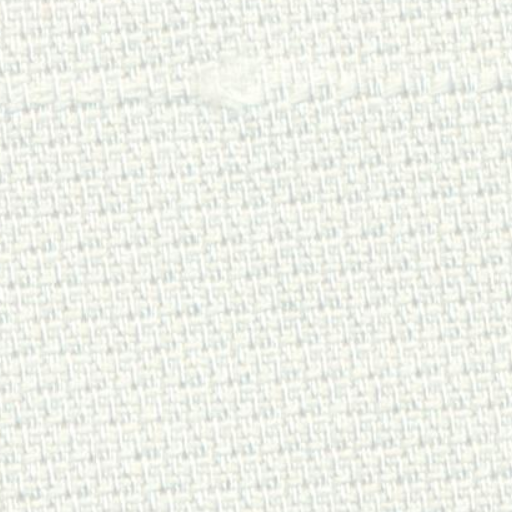DaiSha: (20, 58, 497, 119)
